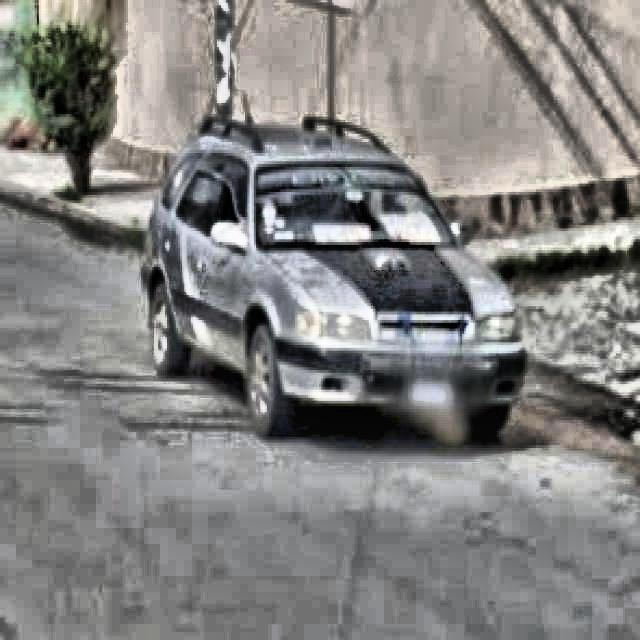carro: (140, 116, 522, 442)
